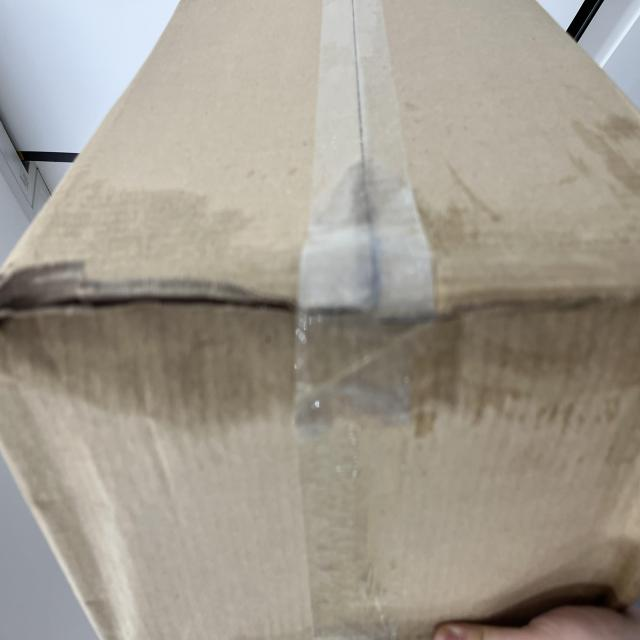wet: (142, 20, 361, 640)
